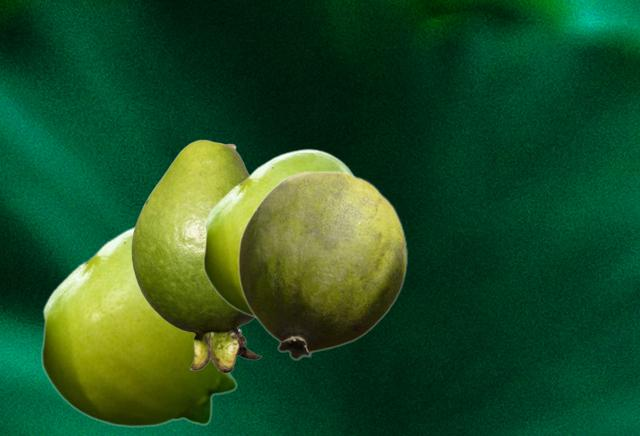guava: (40, 224, 237, 426), (237, 170, 407, 359), (131, 139, 262, 372), (202, 148, 354, 319)
